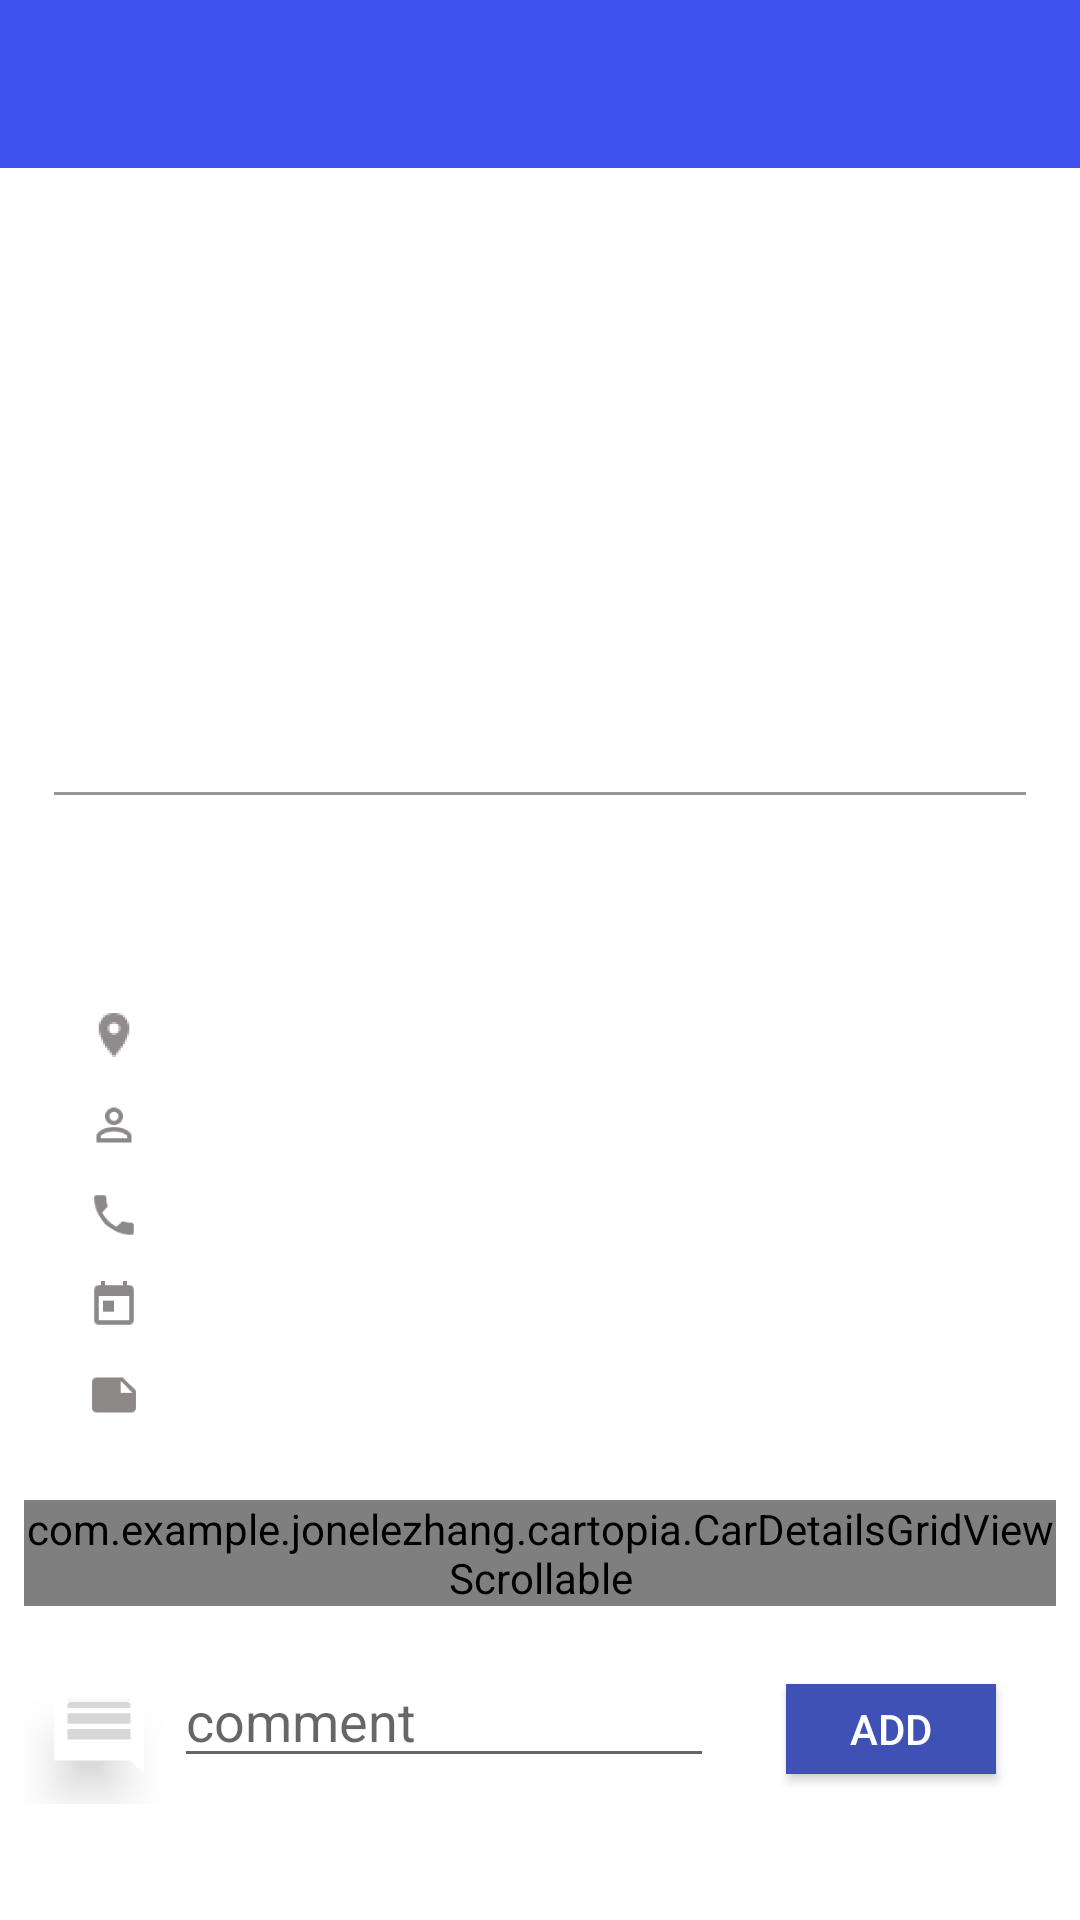

Named icons in this screenshot (1080×1920) and their bounding boxes, rect(x1, y1, x2, y2):
call: rect(94, 1195, 134, 1235)
identity: rect(96, 1107, 132, 1143)
location: rect(98, 1013, 130, 1057)
note: rect(92, 1377, 136, 1413)
today: rect(94, 1281, 134, 1325)
